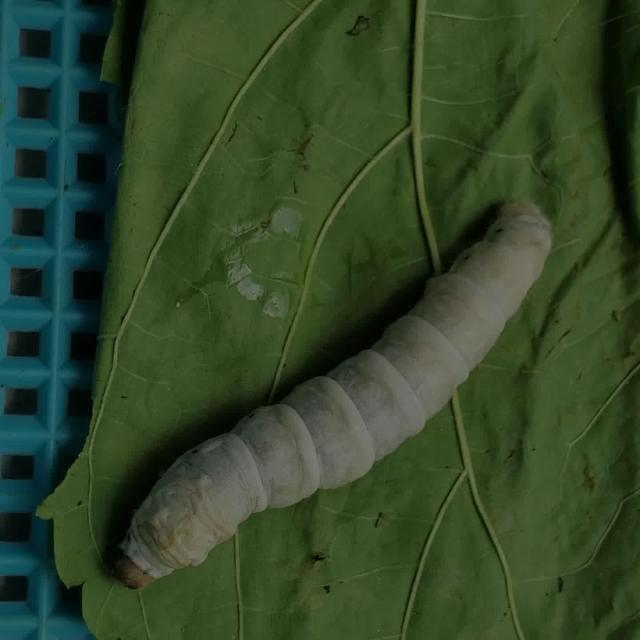Grasserie: (106, 192, 556, 590)
